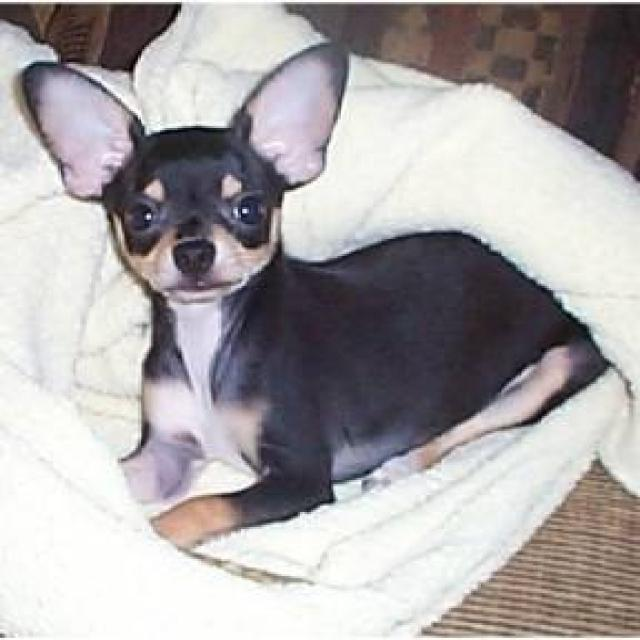dog-chihuahua: (11, 34, 609, 550)
